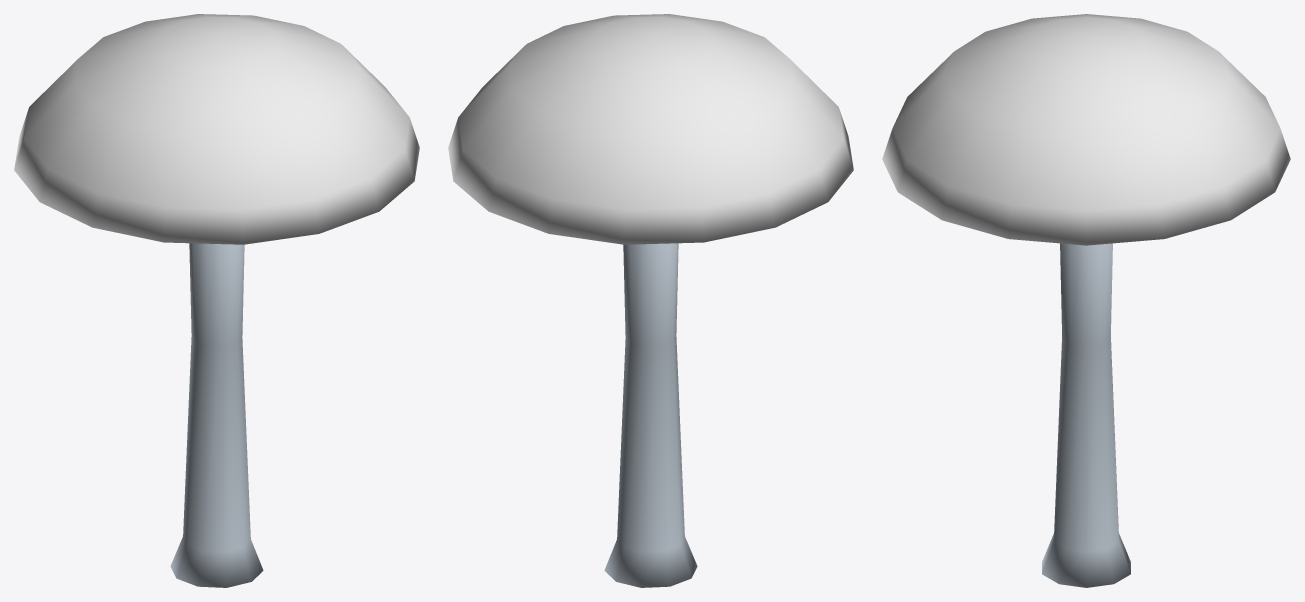
Rendered from giant_glowcap_v0.glb.
The picture shows the model from 3 angles, left to right: view 1: azimuth 30°, elevation 25°; view 2: azimuth 150°, elevation 25°; view 3: azimuth 270°, elevation 25°; orthographic projection.
Visible parts, largest first — view 1: giant_glowcap_v0; view 2: giant_glowcap_v0; view 3: giant_glowcap_v0.
Part boxes in pixels (<box>): giant_glowcap_v0: <box>14,14,419,587</box>; giant_glowcap_v0: <box>448,14,853,587</box>; giant_glowcap_v0: <box>882,14,1290,587</box>.
Size of the model in its own units: 4.8 by 6.9 by 4.8.
